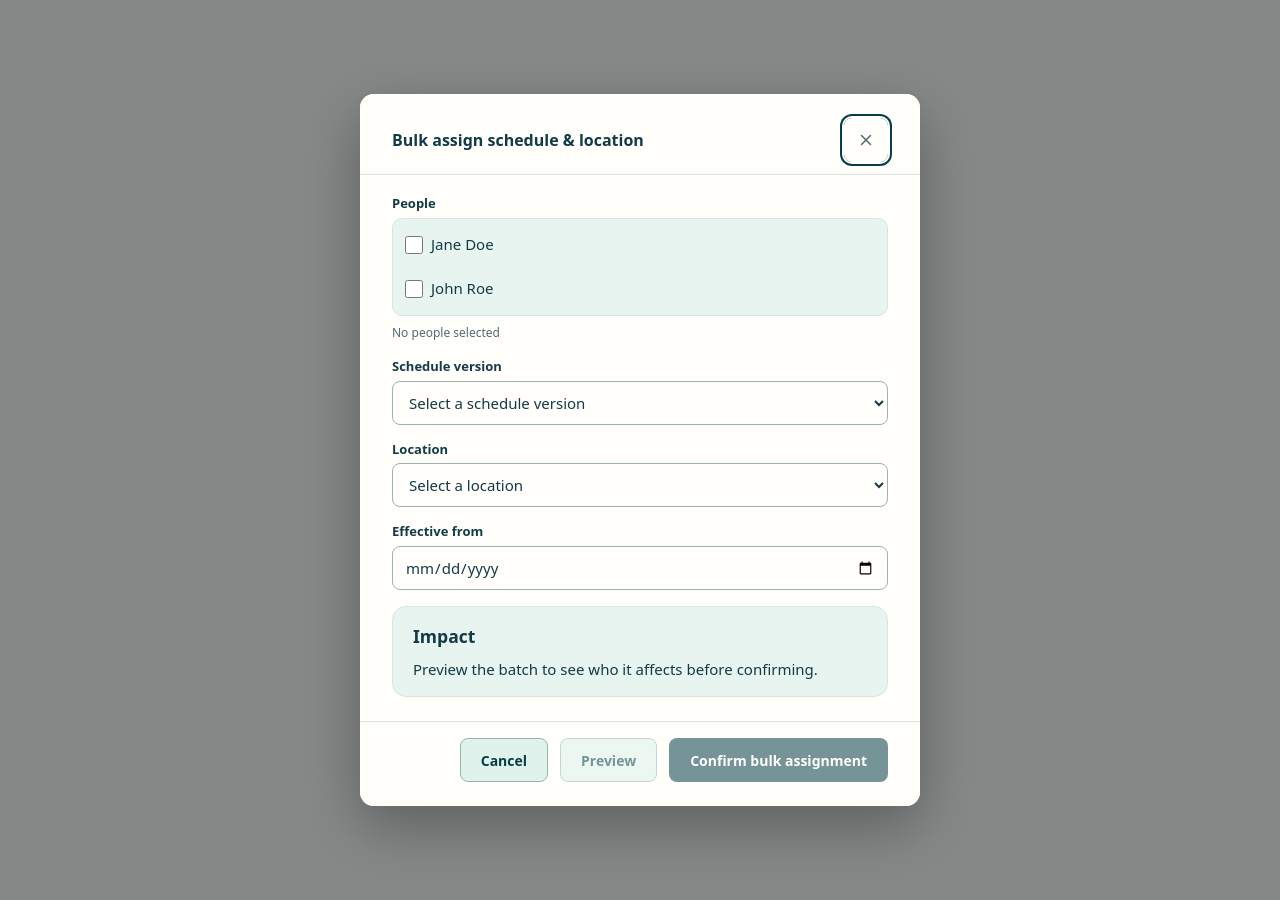
Scenario: BulkScheduleAssignmentModal › names the person in a conflict reason rather than rendering a blank bullet
Click the text "Jane Doe" at (462, 245), box [431,234,494,256]
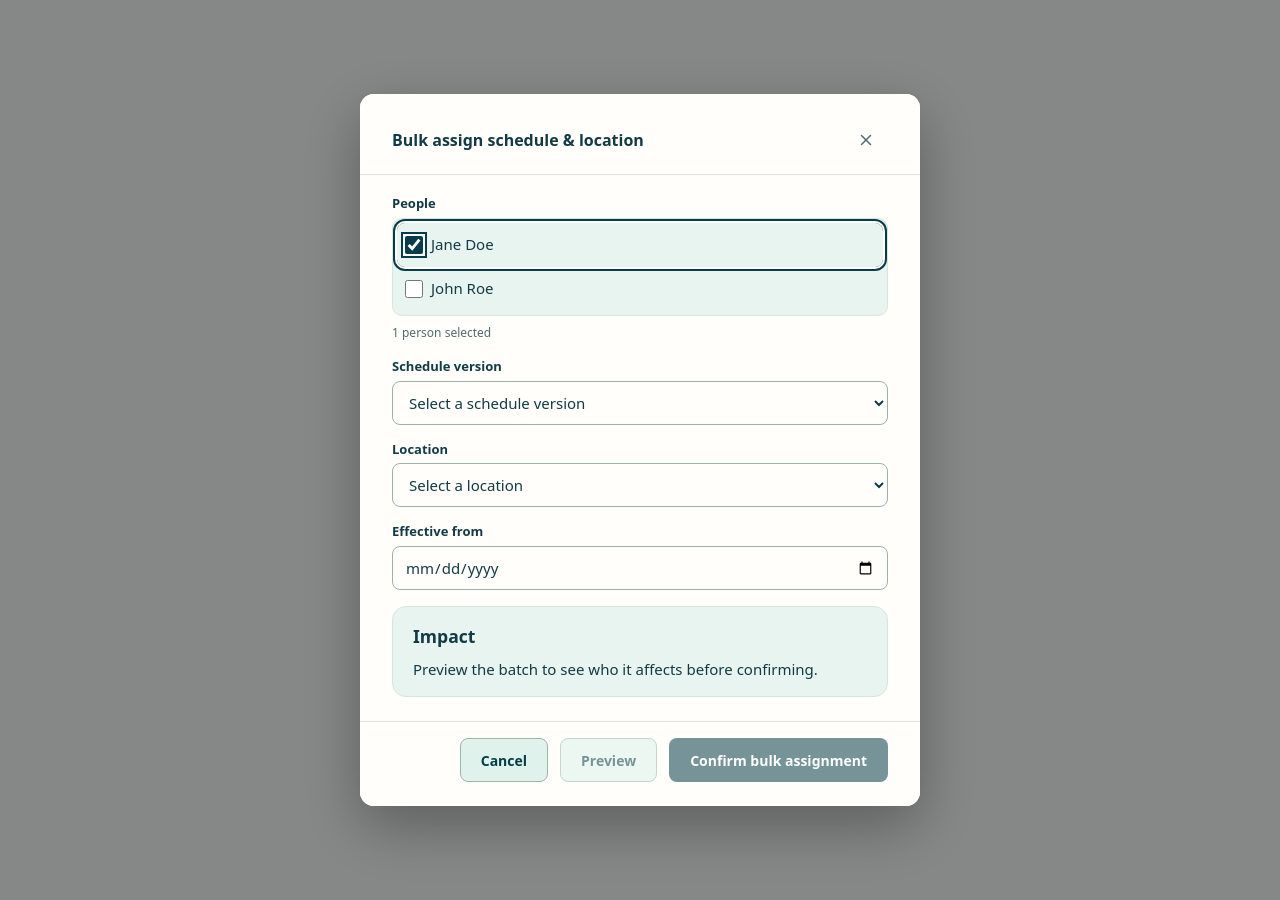
Click the text "John Roe" at (462, 289), box [431,278,494,300]
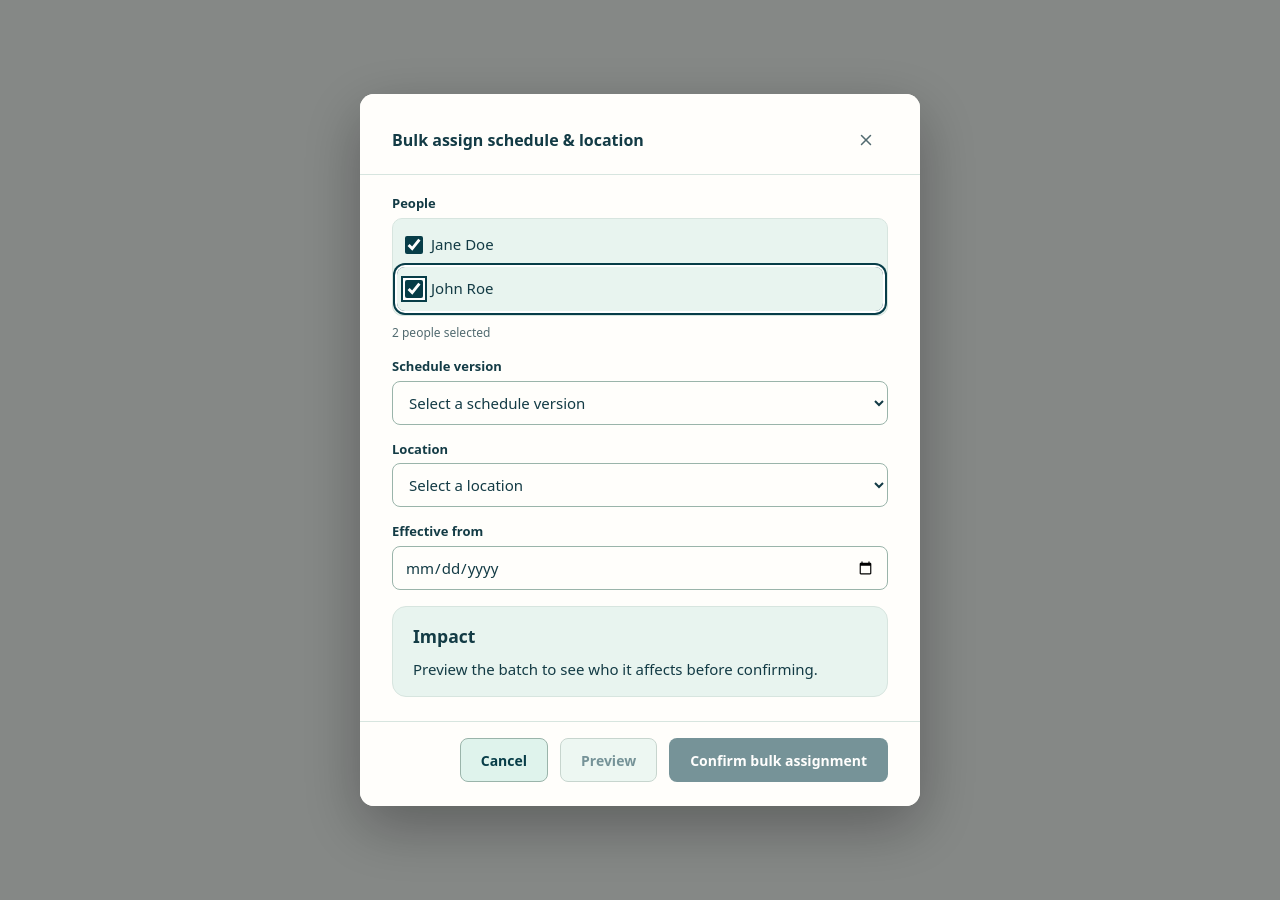
Select " Standard  · v1" in the dropdown labelled "Schedule version" at (640, 403), box [392,381,888,425]
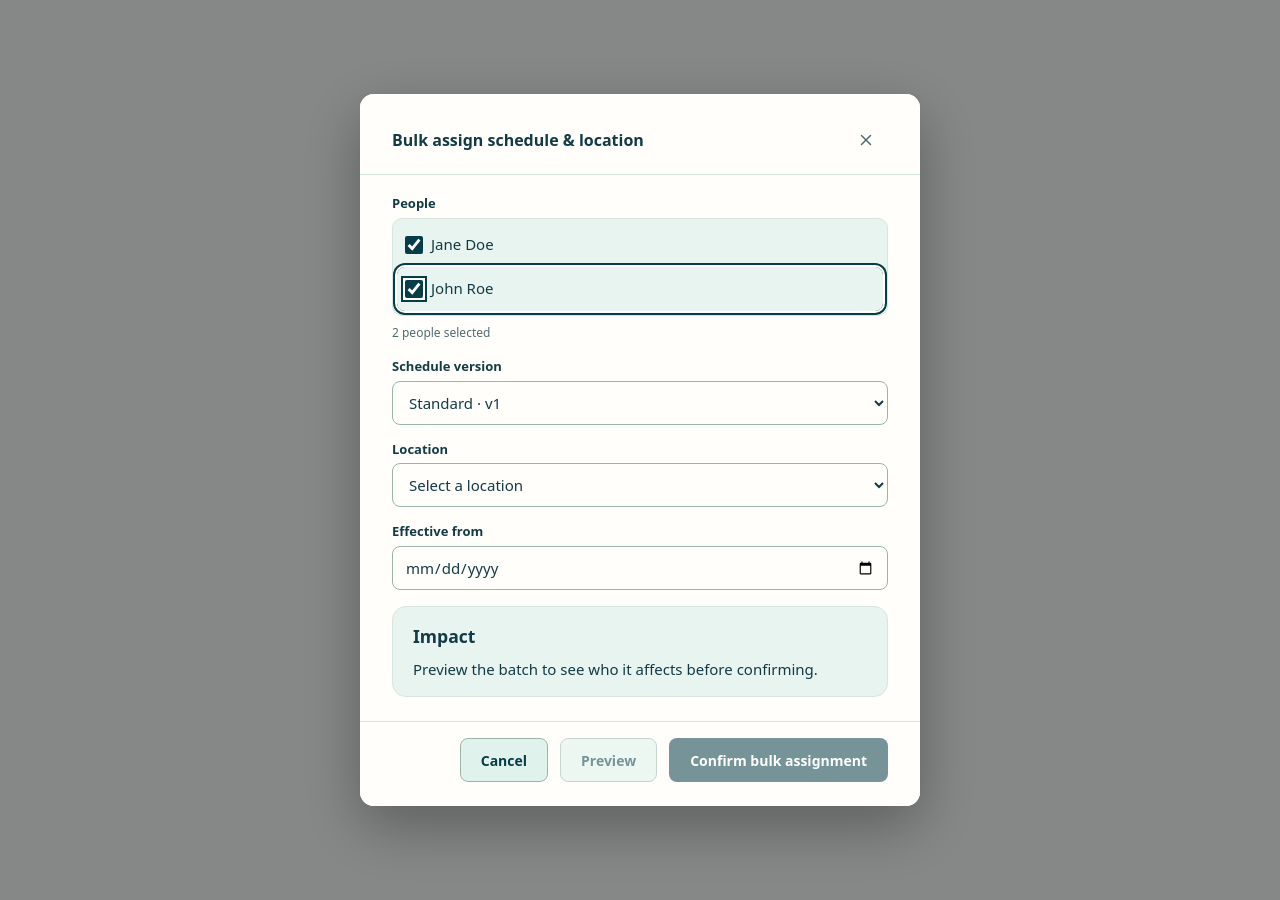
Select "Cairo" in the dropdown labelled "Location" at (640, 486), box [392,464,888,508]
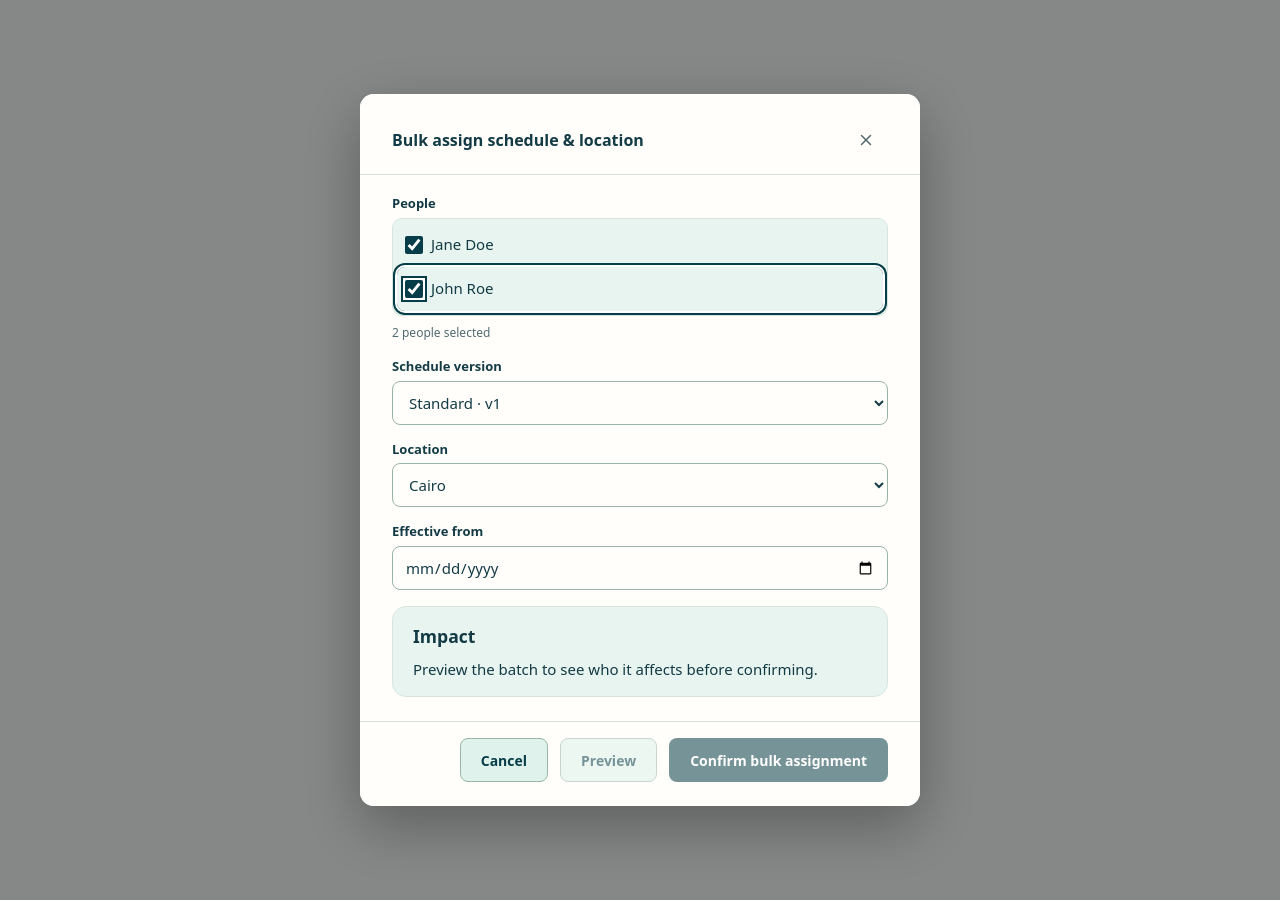
Type "2027-01-01" into the date field labelled "Effective from" at (640, 568), box [392,546,888,590]
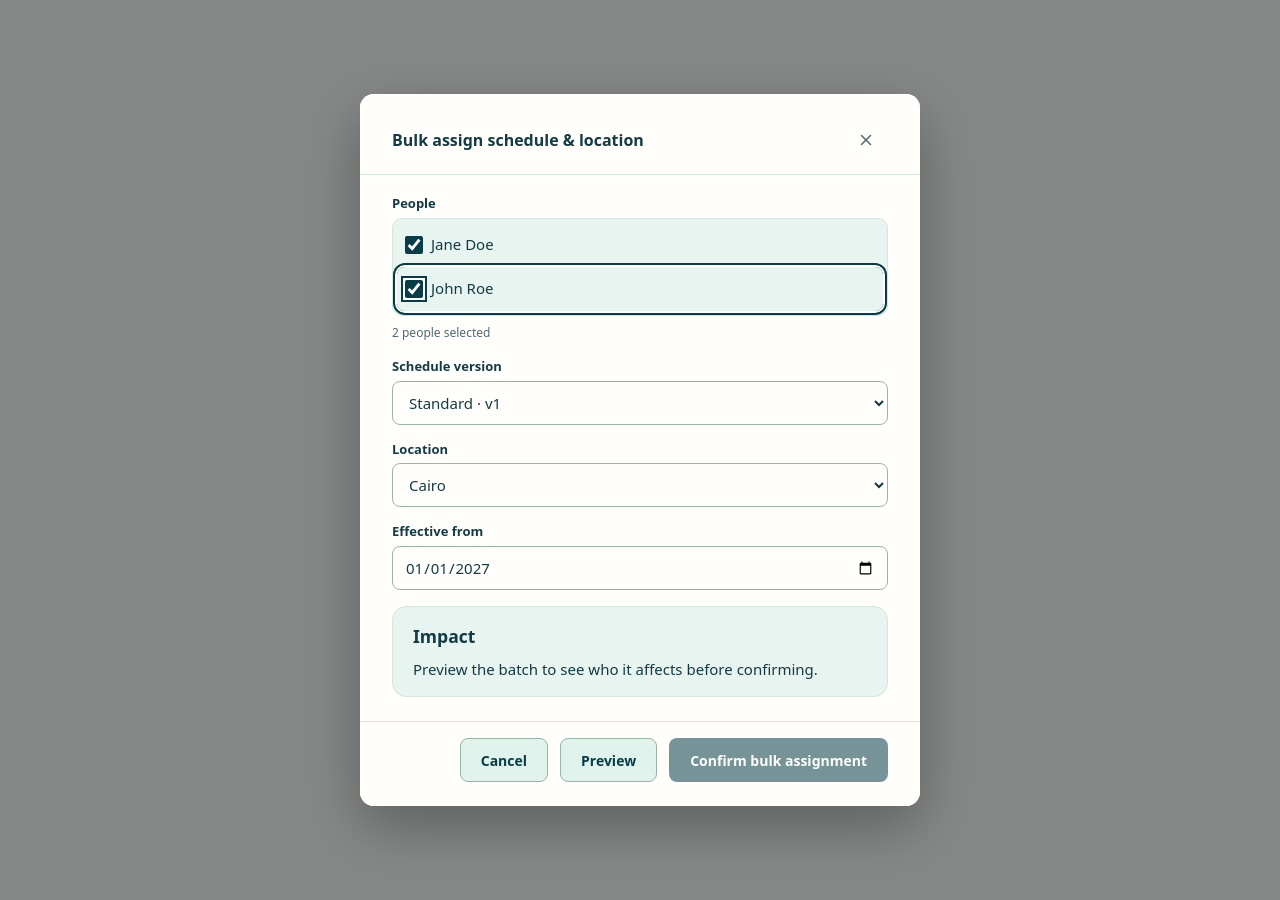
Click the button with test id "bulk-assignment-preview-submit" at (609, 760), box [560,738,657,782]
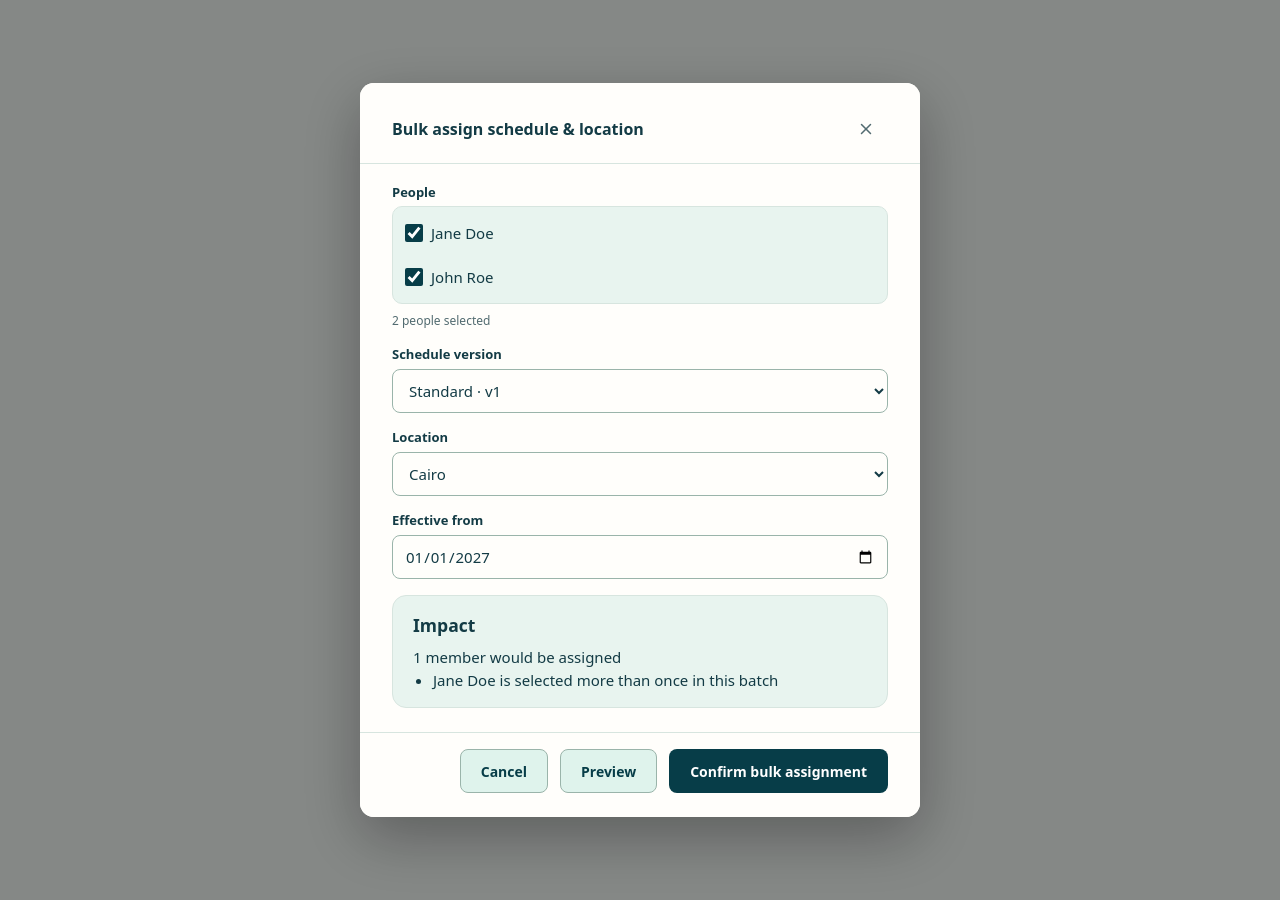
expect the list item "Jane Doe is selected more than once in this batch" is shown: met, box [433,670,778,690]
